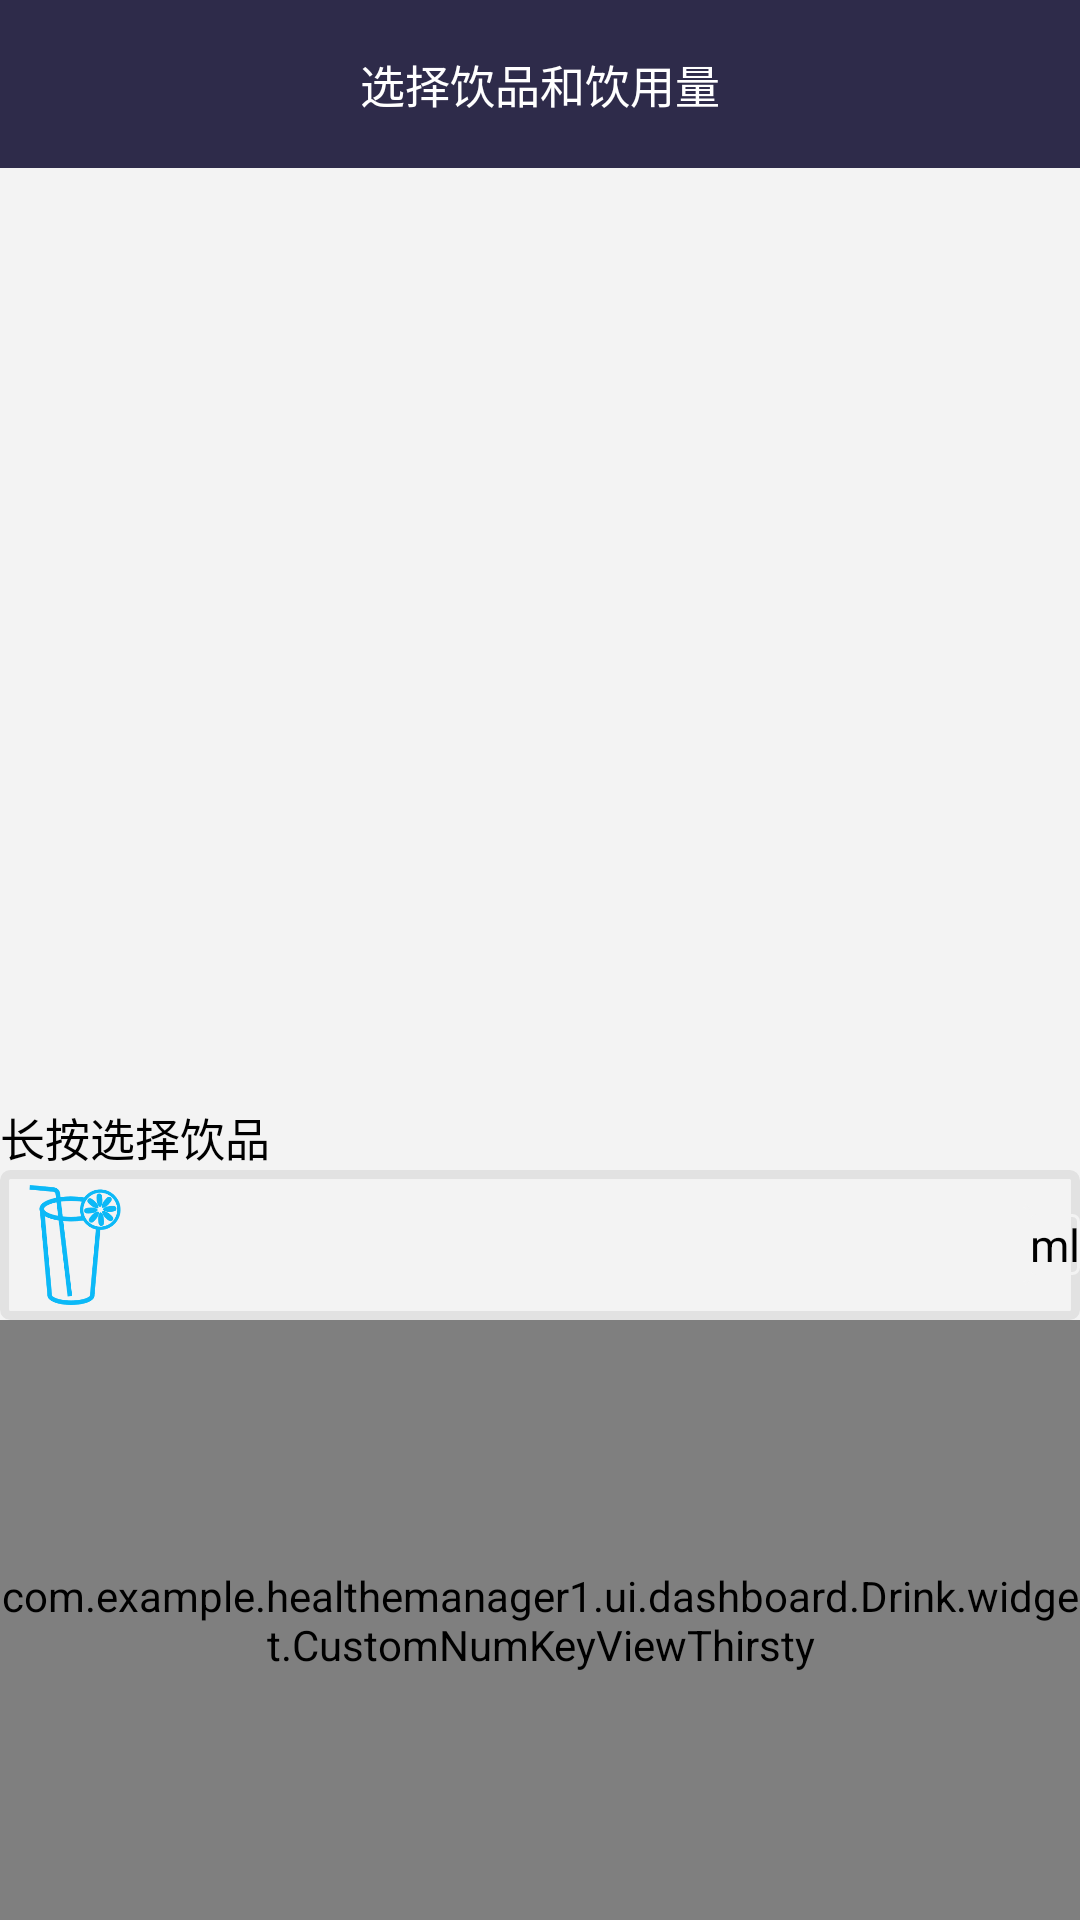

Icons on this 1080w x 1920h Android screen, each with its box as (x1, y1, x2, y2):
beizi: (29, 1185, 121, 1305)
